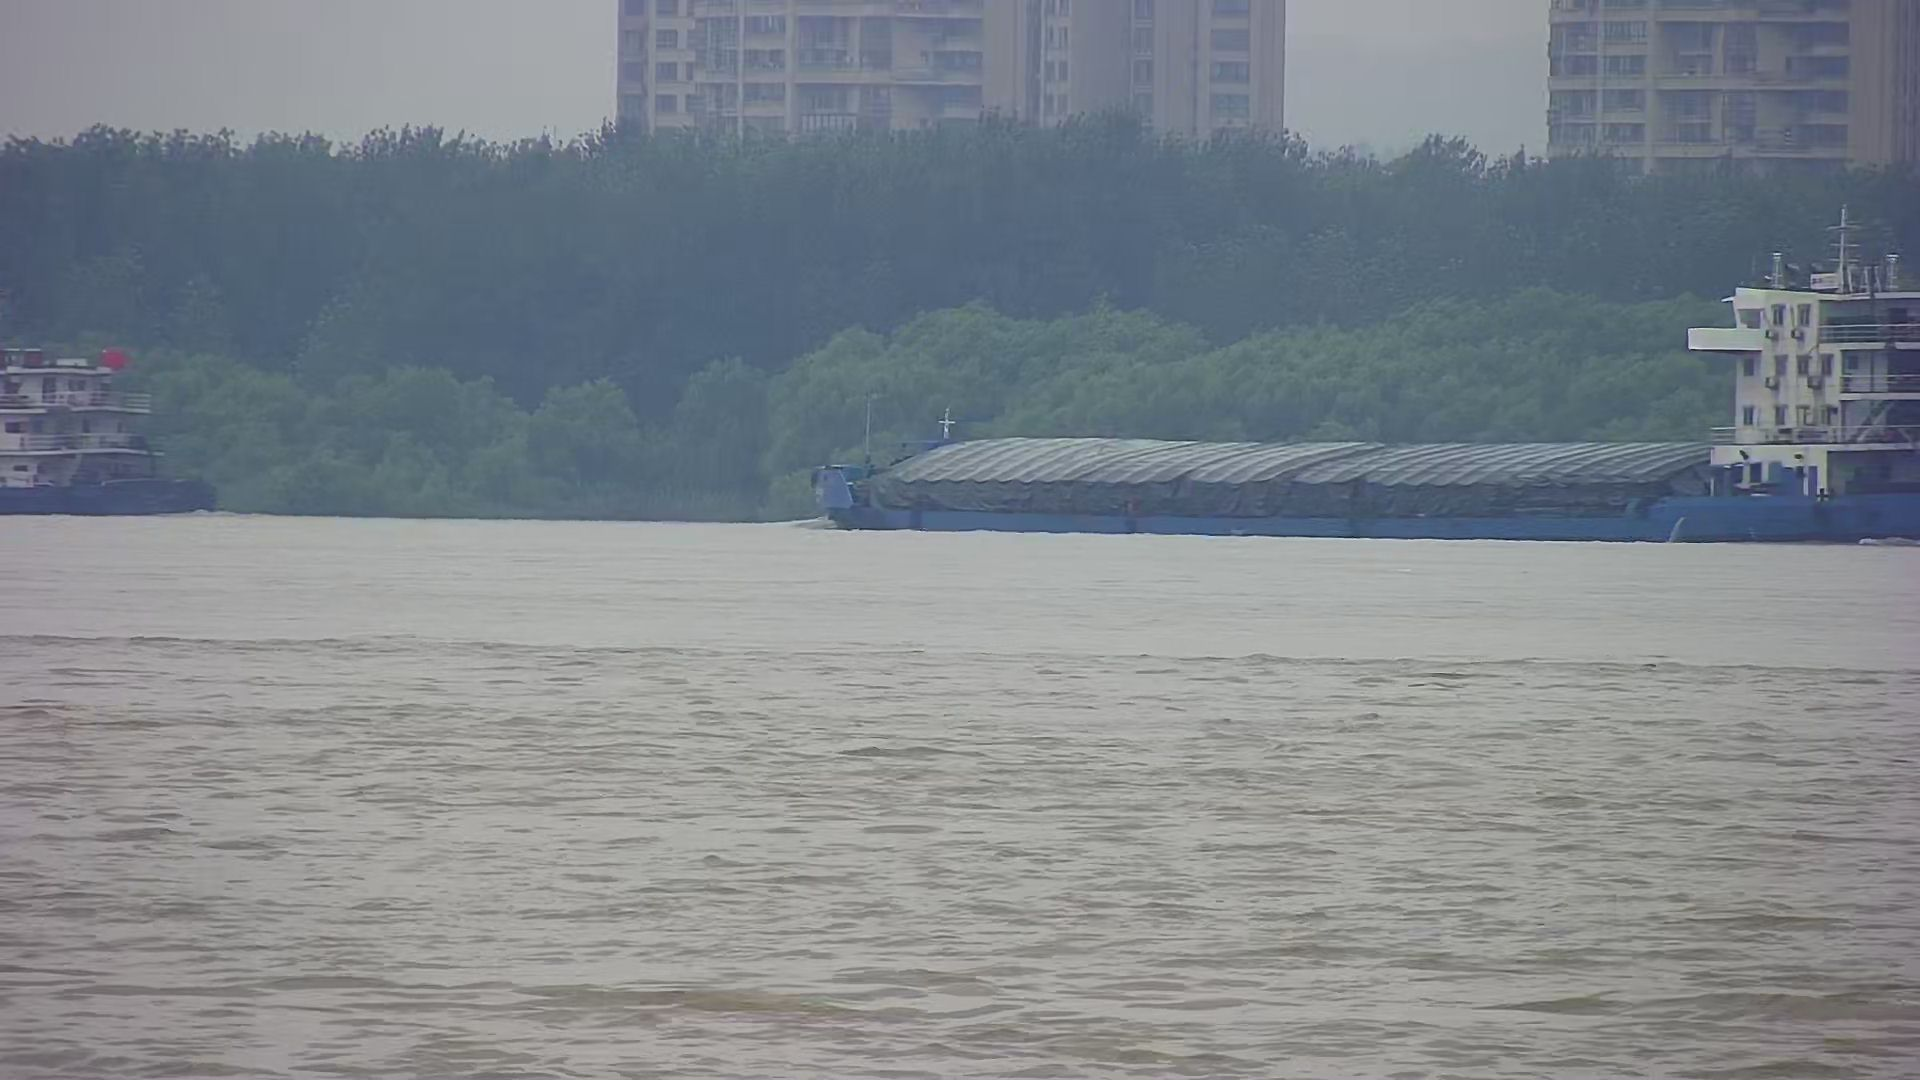ship: (787, 218, 1920, 553), (1, 313, 206, 524)
